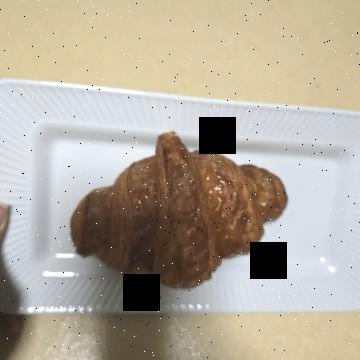croissant: (114, 70, 312, 301)
